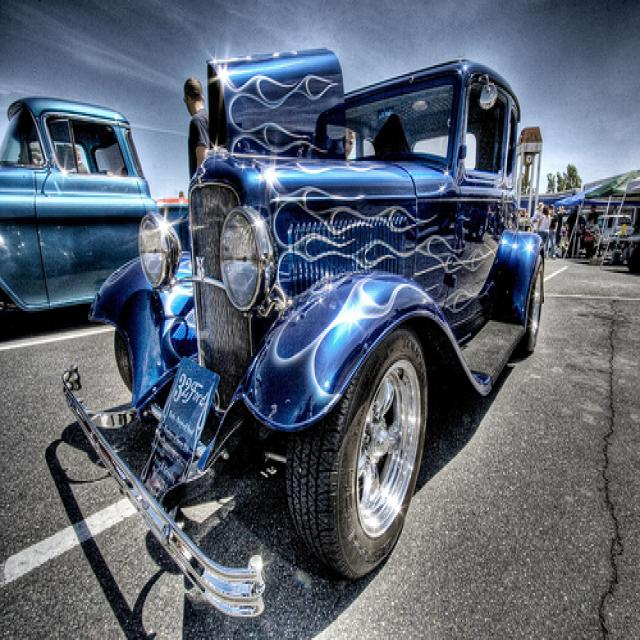Car: (51, 41, 549, 604), (0, 103, 190, 326)
